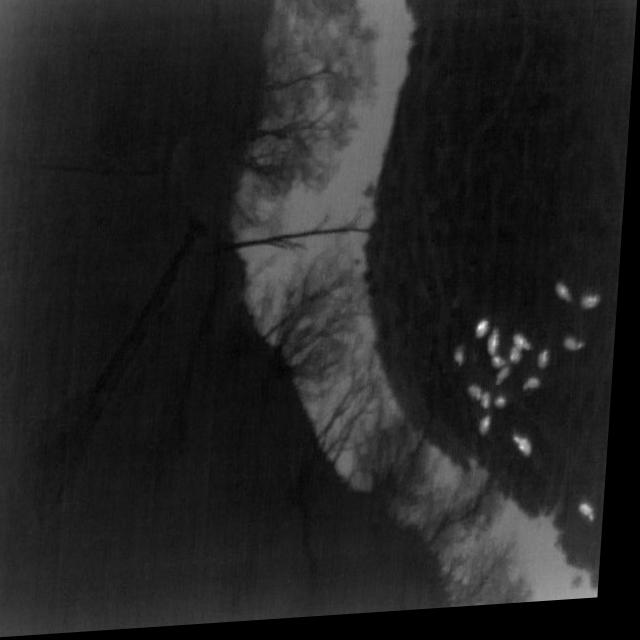deer: (518, 442, 540, 466), (492, 336, 506, 364), (585, 511, 604, 531), (517, 341, 538, 359), (559, 290, 577, 310), (585, 303, 606, 318), (569, 345, 591, 359), (542, 358, 556, 378), (458, 353, 471, 374), (529, 384, 547, 399), (501, 375, 516, 393), (481, 327, 495, 346), (473, 391, 488, 408), (485, 422, 497, 443), (515, 354, 529, 372), (496, 363, 513, 376), (486, 399, 498, 417), (500, 403, 512, 415)
